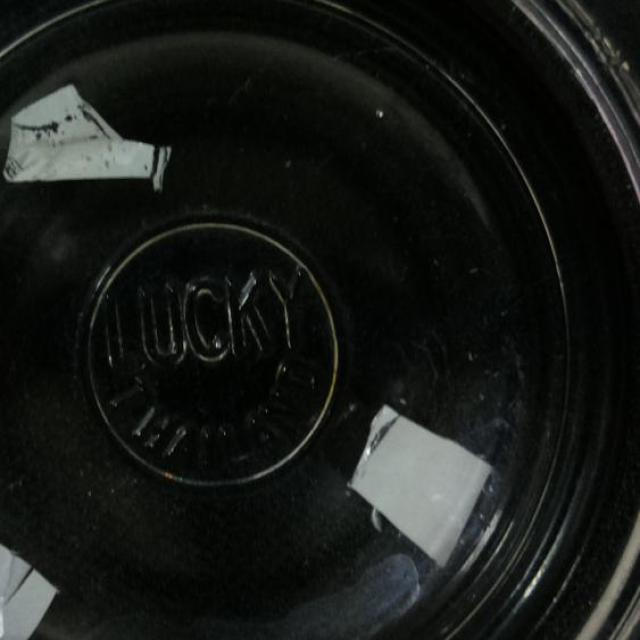fiber: (348, 397, 494, 573), (6, 79, 171, 197), (0, 542, 61, 640)
